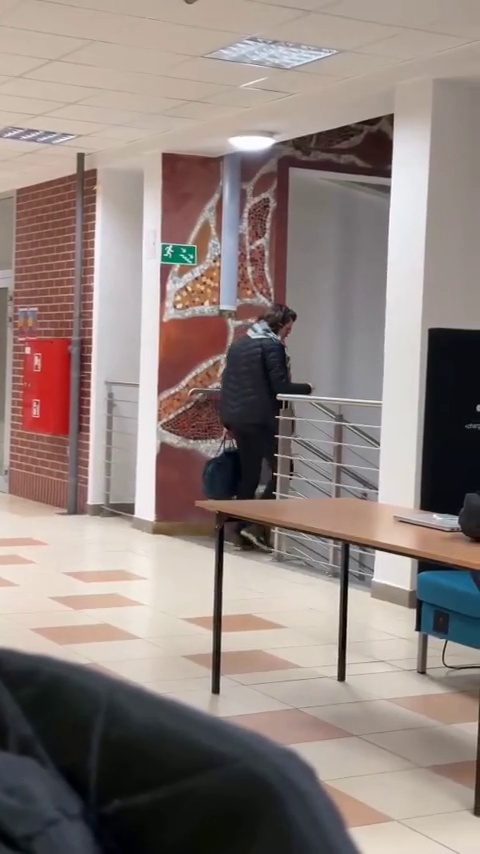no vest: (210, 303, 300, 540)
